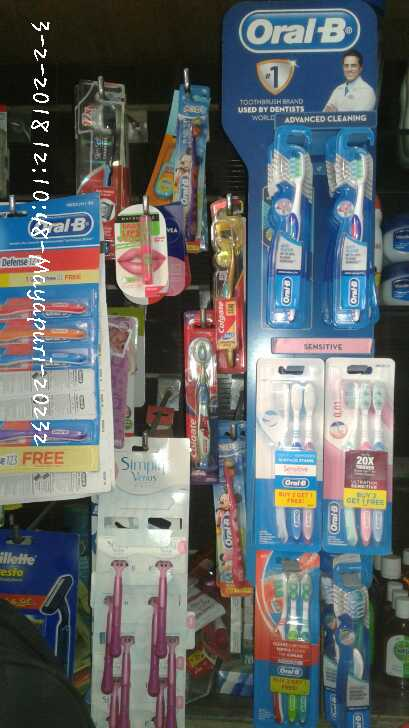oralb: (329, 381, 396, 544), (261, 373, 321, 549), (270, 567, 322, 726), (334, 147, 372, 327), (330, 570, 369, 728), (274, 139, 301, 323), (218, 451, 250, 589)
